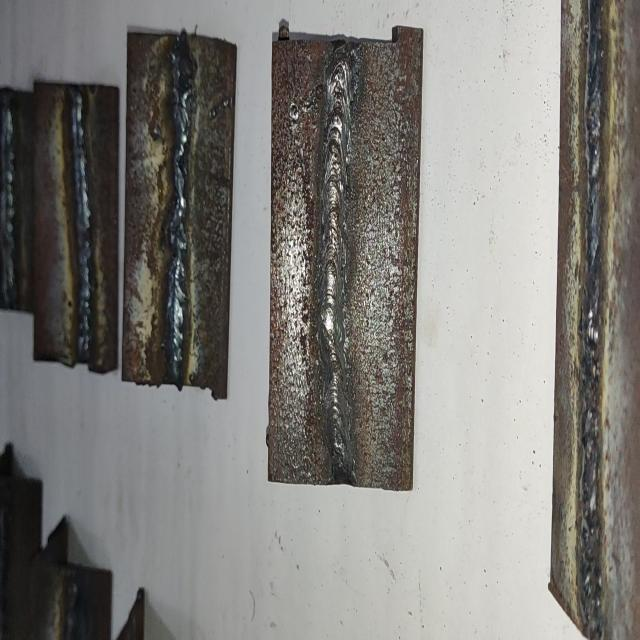Welding Line: (578, 0, 606, 634), (319, 47, 355, 475), (165, 43, 194, 370), (66, 84, 95, 362)
Workpiece: (264, 22, 428, 487), (544, 0, 640, 640), (120, 26, 238, 388), (28, 81, 125, 376)
